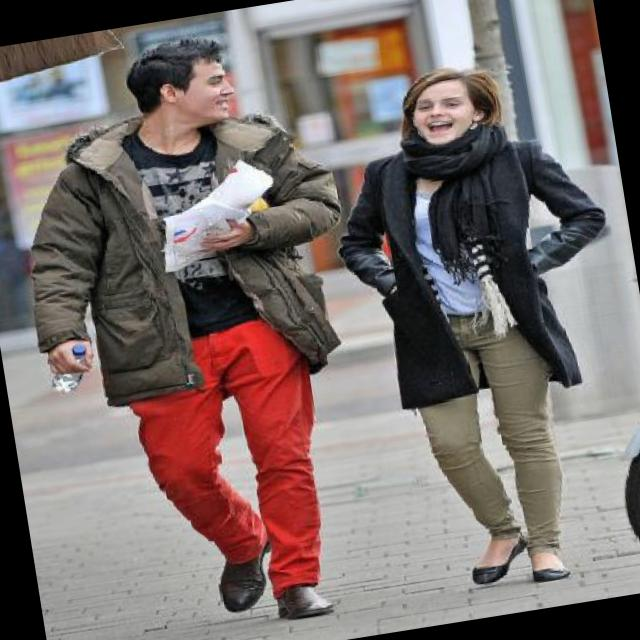Person: (0, 1, 394, 640), (306, 27, 640, 610)
